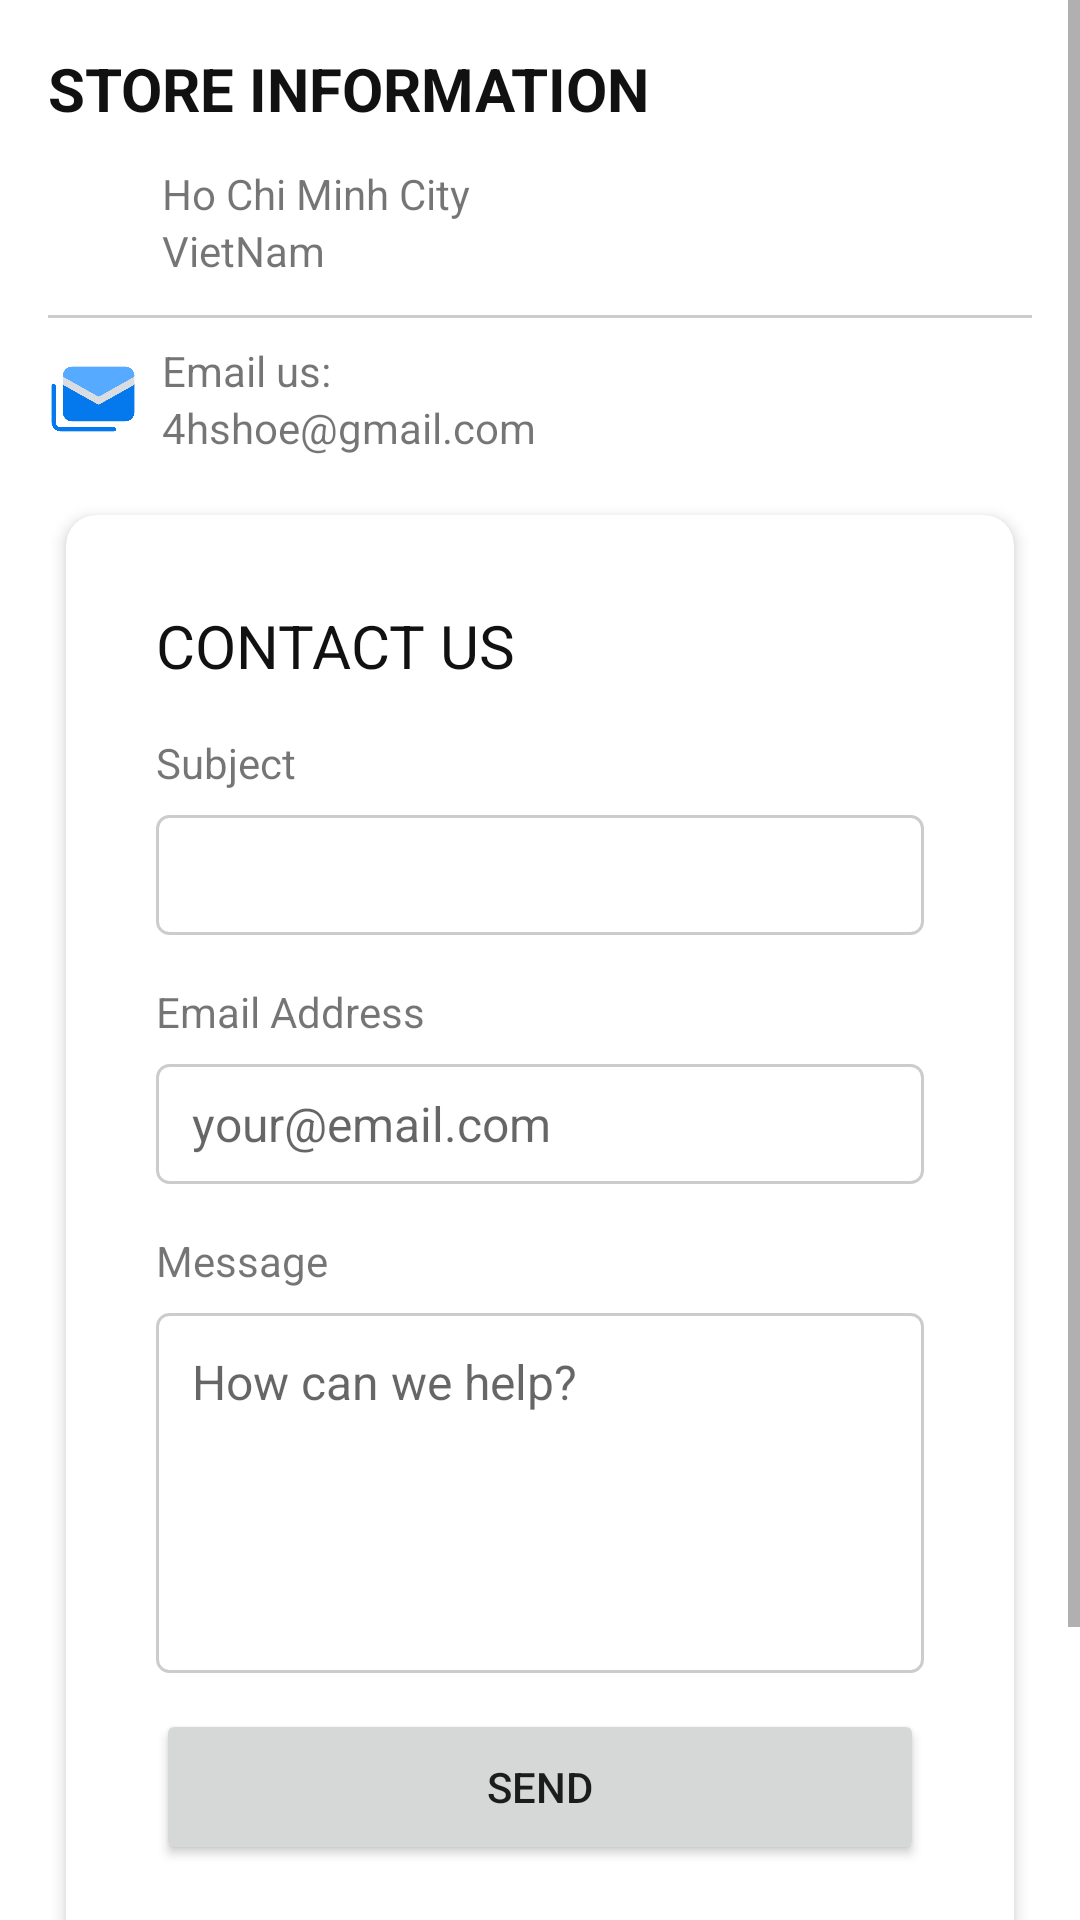

Icons on this 1080 x 1920 Android screen, each with the point to tap as (x=x, y=y):
contact: (x=93, y=399)
